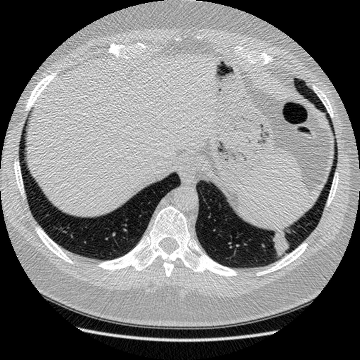nodule: (271, 233, 291, 253)
